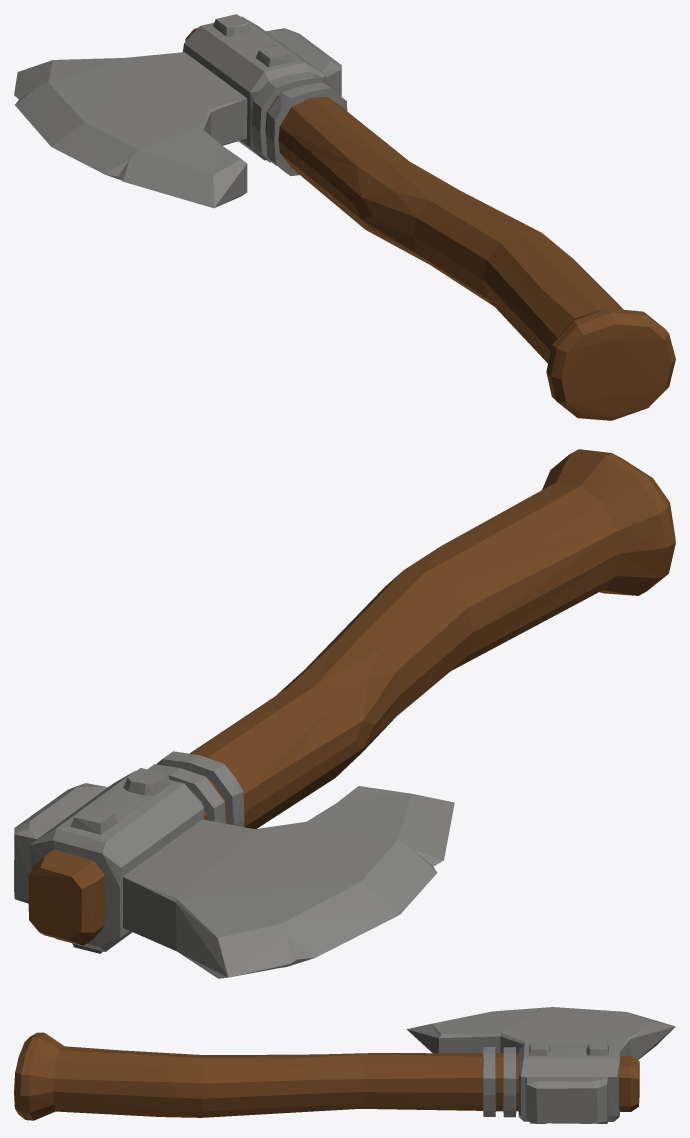
File: WoodenAxe.fbx
3 views of the same model, one above another, from view 1: azimuth 30°, elevation 25°; view 2: azimuth 150°, elevation 25°; view 3: azimuth 270°, elevation 25° (orthographic). The views are drawn at different scales.
Visible parts, largest first — view 1: WoodenAxe; view 2: WoodenAxe; view 3: WoodenAxe.
Boxes of the visible parts, x1,y1,x2,y2 form: WoodenAxe: [14, 14, 675, 420]; WoodenAxe: [14, 449, 675, 978]; WoodenAxe: [14, 1007, 675, 1123].
Bounding box in the file's own units: 0.3067 × 0.884 × 0.1148.
